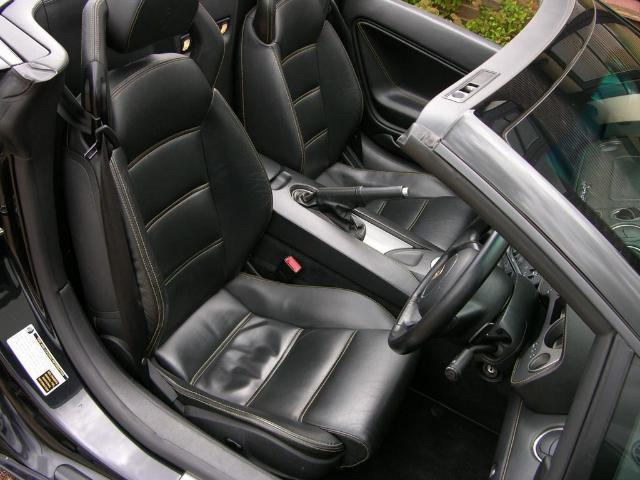Seatbelt: (54, 79, 150, 387)
